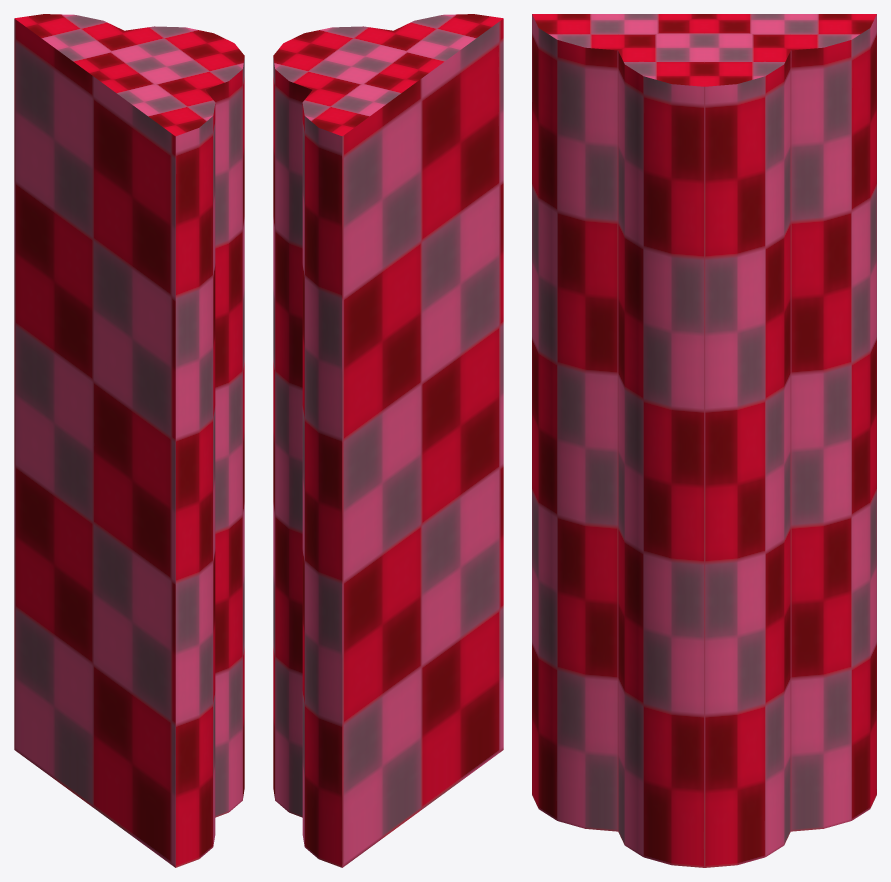
The model's file is wall_small4_half.obj.
3 views of the same model, side by side, from view 1: azimuth 30°, elevation 25°; view 2: azimuth 150°, elevation 25°; view 3: azimuth 270°, elevation 25° (orthographic). The views are drawn at different scales.
Size of the model in its own units: 0.3998 by 2 by 0.8.
1 material, 1 textured.
